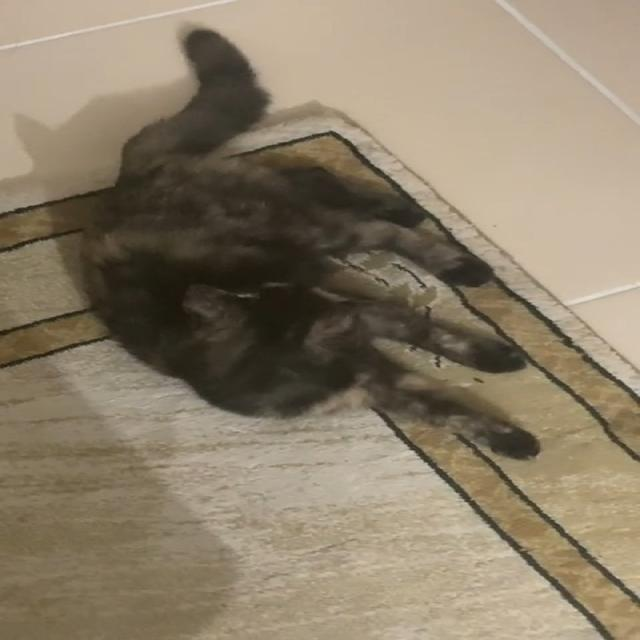authorized: (78, 21, 542, 462)
